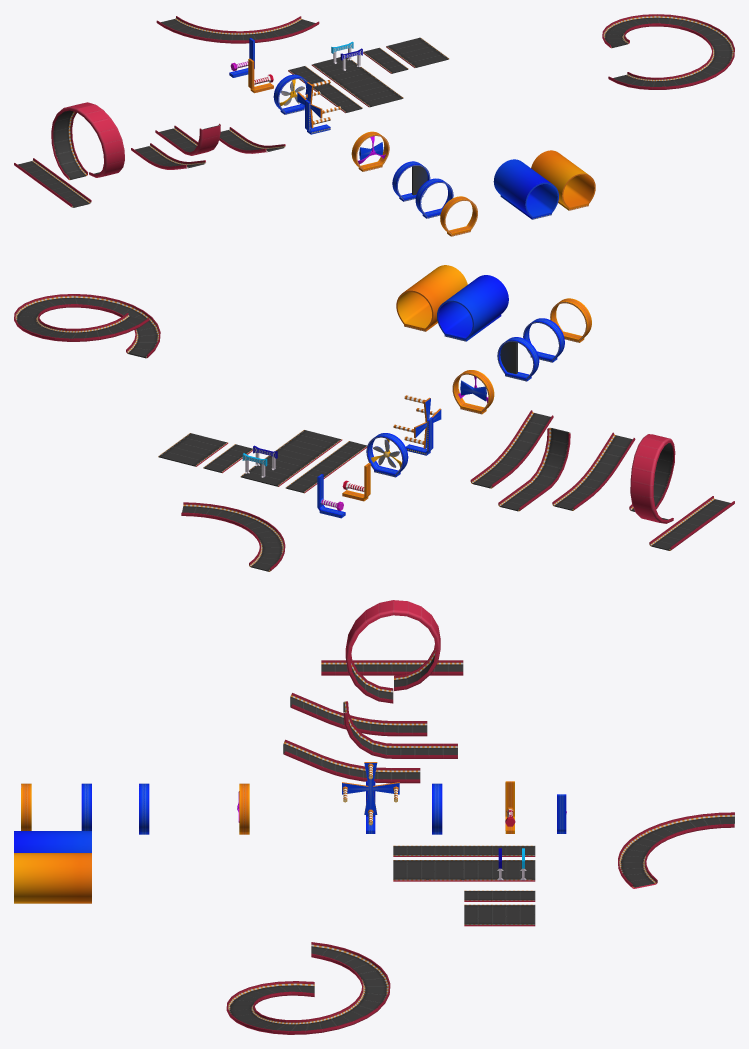
Rendered from Race_track_assets1.fbx.
The picture shows the model from 3 angles, top to bottom: view 1: azimuth 30°, elevation 25°; view 2: azimuth 150°, elevation 25°; view 3: azimuth 270°, elevation 25°; orthographic projection. The views are drawn at different scales.
Parts seen in each view (by area): view 1: Path_1, Path_10, Circle_2, Circle_1, Path_6, Path_3, Path_11, Path_8, Path_5, Path_4, Path_9, Path_7 (+7 smaller); view 2: Path_1, Circle_2, Path_10, Circle_1, Path_6, Path_3, Path_8, Path_9, Path_7, Path_11, Path_5, Path_4 (+7 smaller); view 3: Path_1, Circle_1, Path_10, Path_6, Path_3, Path_7, Path_9, Path_8, Path_11, Circle_2, Path_4, Path_5 (+2 smaller).
Part boxes in pixels (x1,y1,x2,y2): Path_1: (602, 14, 734, 89); Path_10: (51, 102, 124, 180); Circle_2: (493, 159, 558, 219); Circle_1: (531, 150, 595, 210); Path_6: (156, 16, 319, 43); Path_3: (311, 57, 403, 107); Path_11: (14, 158, 91, 207); Path_8: (155, 123, 220, 155); Path_5: (386, 37, 449, 67); Path_4: (288, 66, 362, 113); Path_9: (131, 143, 205, 169); Path_7: (219, 127, 285, 153); Path_1: (14, 294, 160, 358); Circle_2: (437, 275, 508, 341); Path_10: (629, 434, 675, 523); Circle_1: (396, 265, 467, 331); Path_6: (181, 502, 285, 571); Path_3: (240, 430, 342, 486); Path_8: (498, 427, 570, 511); Path_9: (552, 432, 635, 510); Path_7: (470, 410, 553, 488); Path_11: (649, 496, 734, 550); Path_5: (158, 433, 228, 466); Path_4: (285, 441, 366, 493); Path_1: (226, 942, 390, 1034); Circle_1: (14, 853, 91, 903); Path_10: (345, 600, 440, 703); Path_6: (618, 812, 734, 888); Path_3: (393, 860, 535, 881); Path_7: (283, 739, 420, 783); Path_9: (290, 693, 427, 736); Path_8: (343, 701, 457, 758); Path_11: (321, 660, 463, 675); Circle_2: (14, 831, 91, 852); Path_4: (393, 845, 535, 856); Path_5: (464, 904, 535, 926).
Bounding box in the file's own units: 25122 × 2661 × 19573.
Materials: 2 (2 with a texture image).
